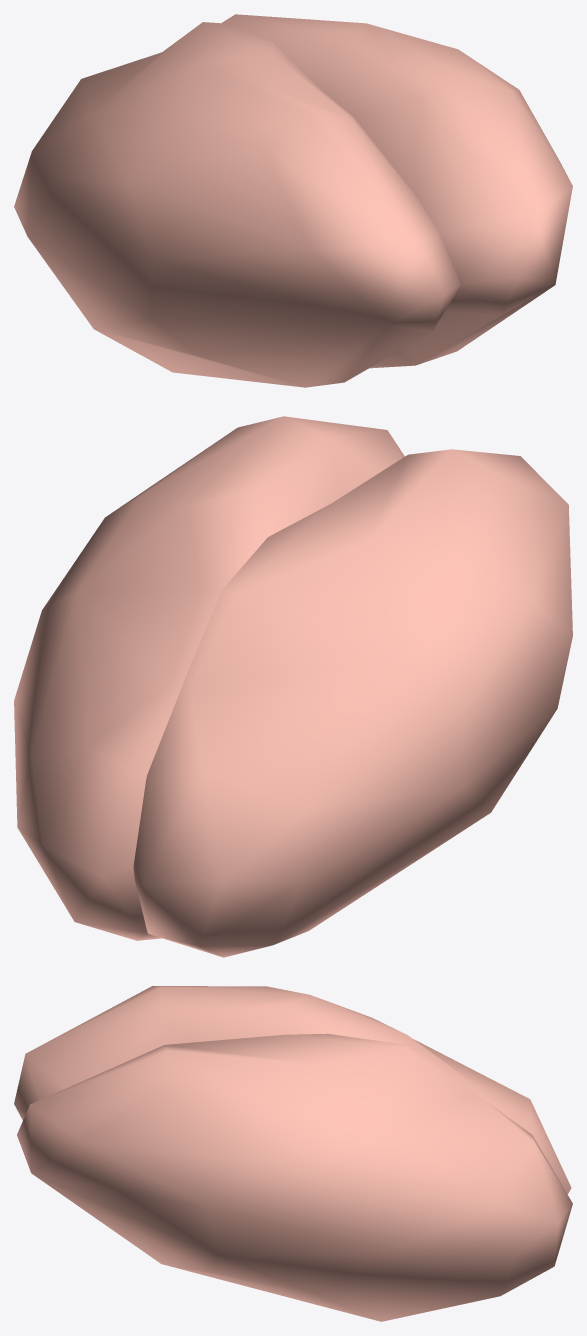
The model's file is endocrine.glb.
The picture shows the model from 3 angles, top to bottom: view 1: azimuth 30°, elevation 25°; view 2: azimuth 150°, elevation 25°; view 3: azimuth 270°, elevation 25°; orthographic projection. The views are drawn at different scales.
Parts seen in each view (by area): view 1: pineal-body, pineal-body-2; view 2: pineal-body, pineal-body-2; view 3: pineal-body-2, pineal-body.
Part boxes in pixels (x1,y1,x2,y2): pineal-body: (14, 22, 460, 387); pineal-body-2: (221, 14, 572, 368); pineal-body: (133, 449, 572, 957); pineal-body-2: (14, 416, 404, 940); pineal-body-2: (17, 1033, 572, 1321); pineal-body: (14, 986, 571, 1194).
Bounding box in the file's own units: 0.0053 × 0.00433 × 0.00756.
